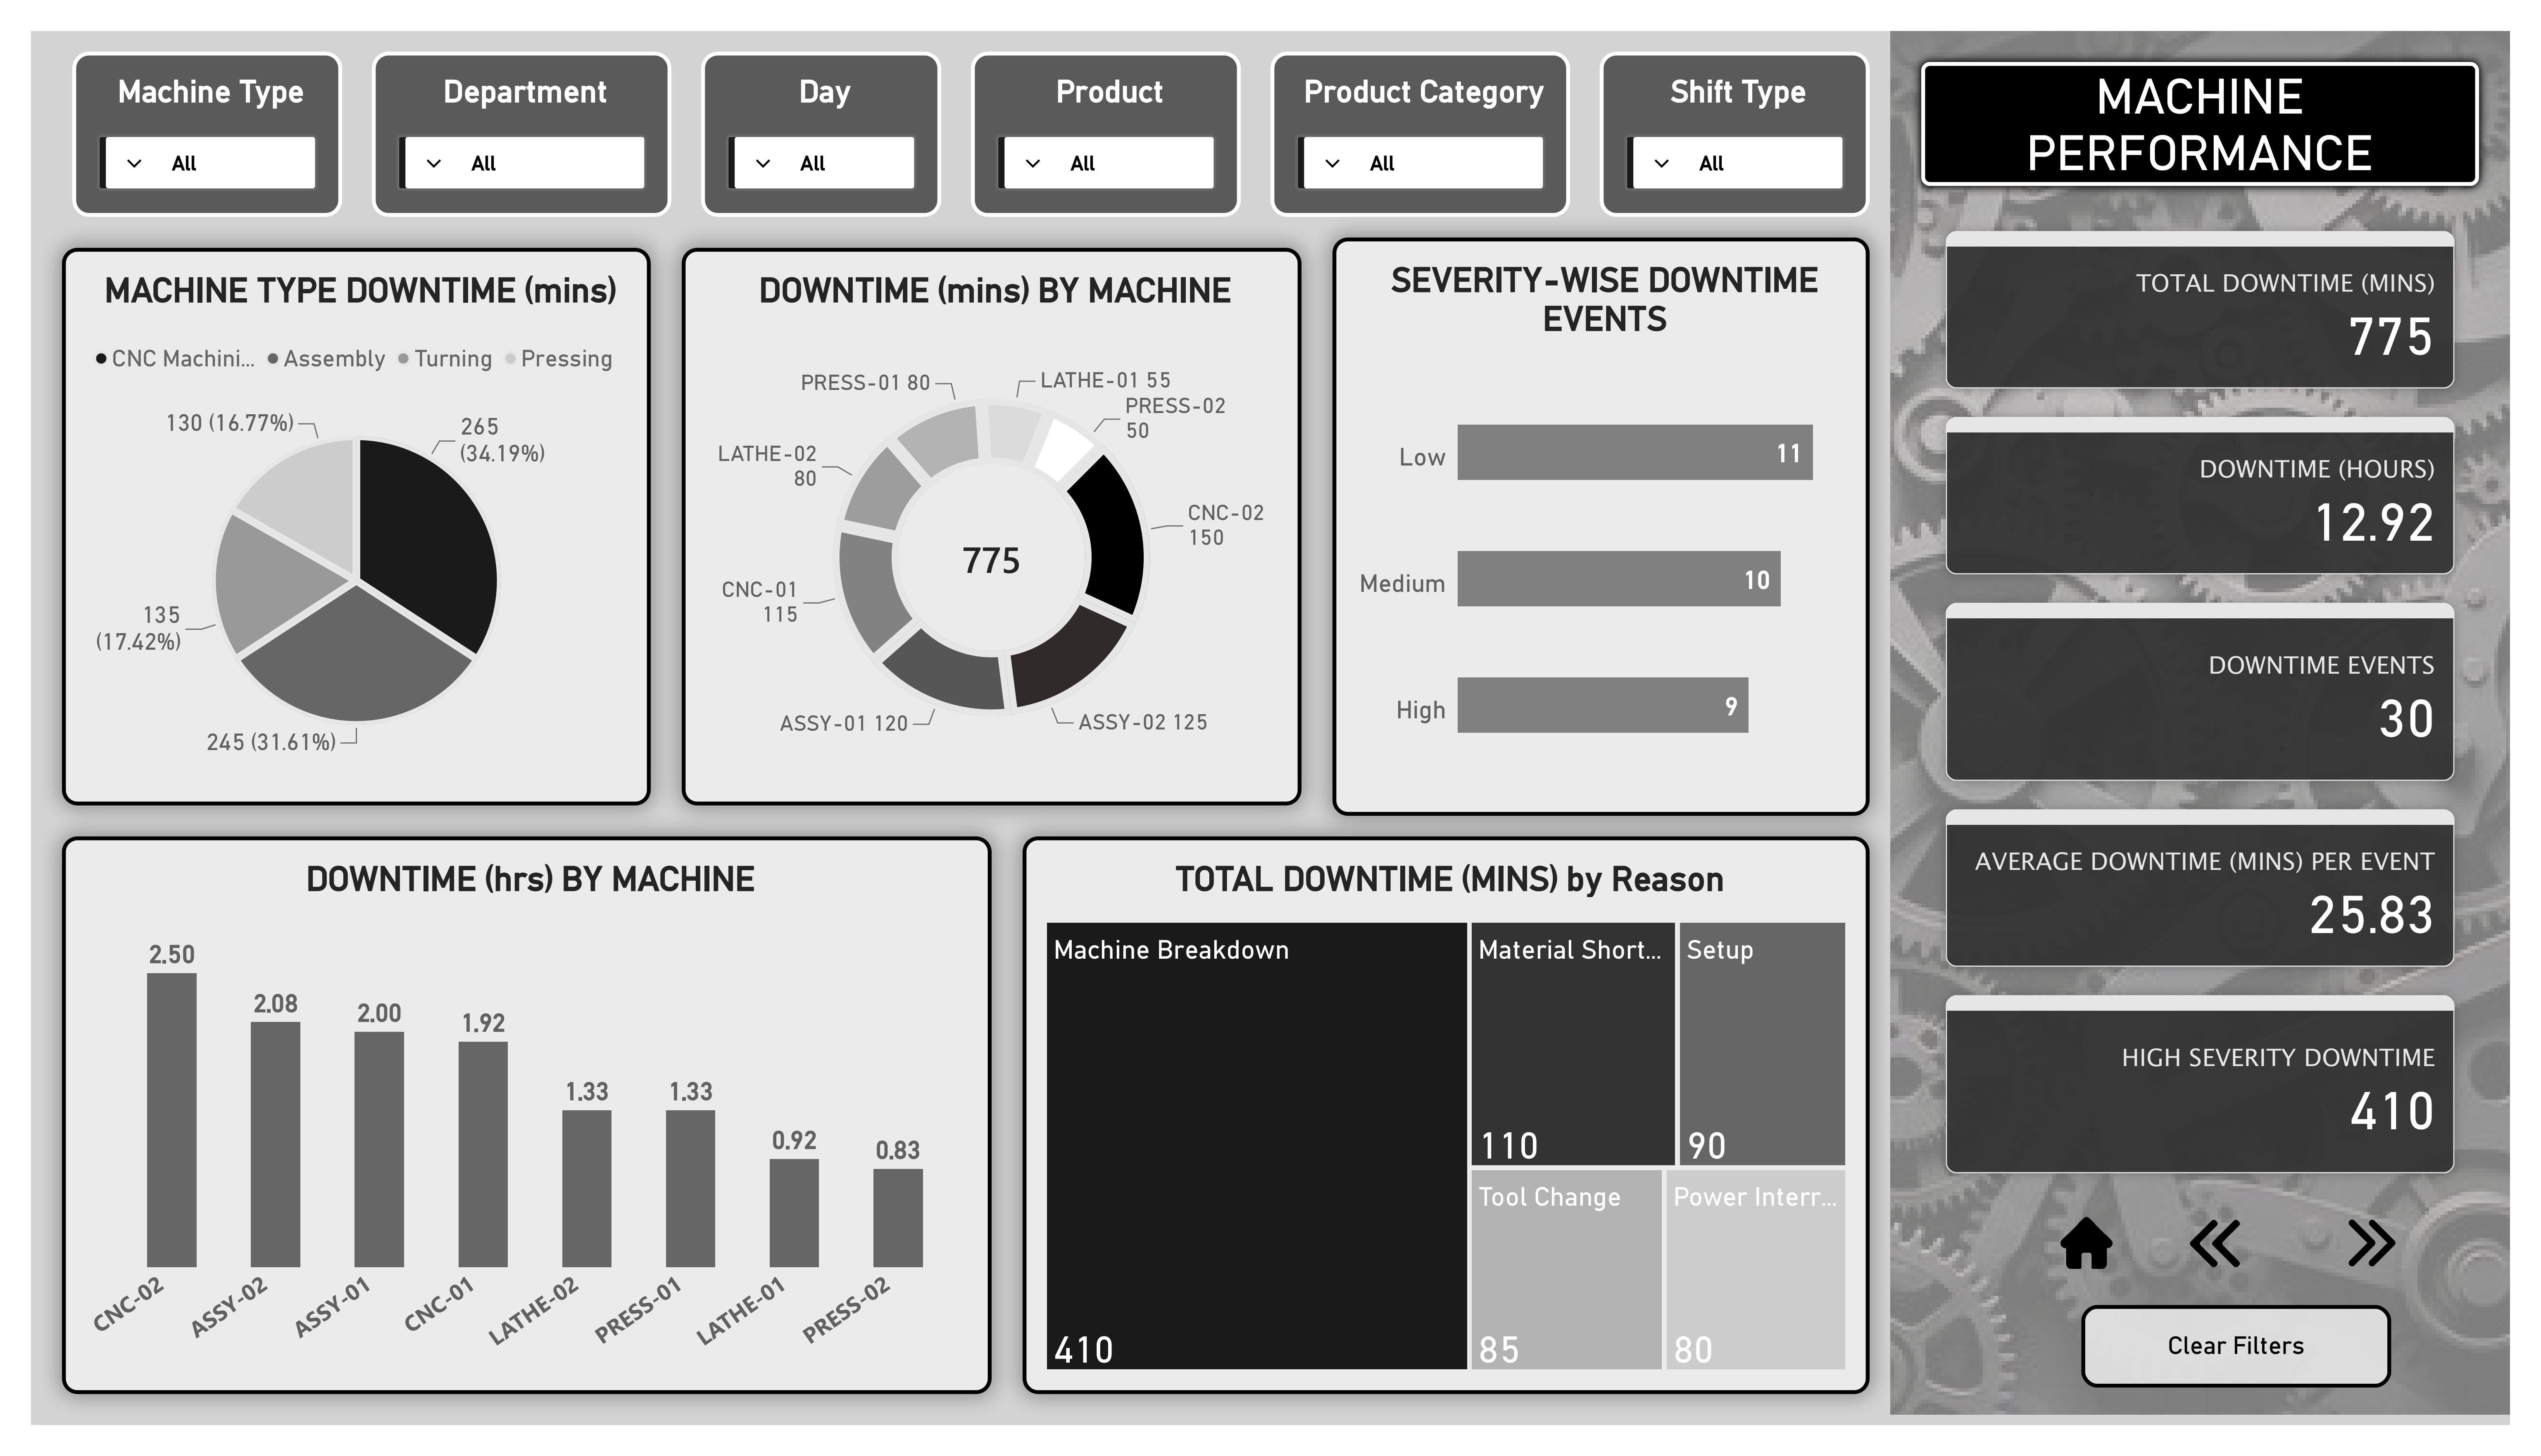

Layout of this report page (visuals, bound fields, positions):
{"tool":"powerbi","page":{"name":"Machine Performance","canvas":[1920,1080],"ordinal":4},"visuals":[{"type":"image","box":[1440,0,480,1072],"z":0},{"type":"pieChart","title":"MACHINE TYPE DOWNTIME (mins)","fields":{"Category":["DimMachine.MachineType"],"Y":["3 Machine Downtime.TOTAL DOWNTIME (MINS)"]},"box":[24,168,456,432],"z":1000},{"type":"image","box":[1571.5,907,40,64],"z":1000,"group":"g3"},{"type":"donutChart","title":"DOWNTIME (mins) BY MACHINE","fields":{"Category":["DimMachine.MachineName"],"Y":["3 Machine Downtime.TOTAL DOWNTIME (MINS)"]},"box":[504,168,480,432],"z":2000},{"type":"clusteredColumnChart","title":"DOWNTIME (hrs) BY MACHINE","fields":{"Category":["DimMachine.MachineName"],"Y":["3 Machine Downtime.DOWNTIME (HOURS)"]},"box":[24,624,720,432],"z":3000},{"type":"image","box":[1781.4,907,62.1,64],"z":3000,"group":"g4"},{"type":"clusteredBarChart","title":"SEVERITY-WISE DOWNTIME EVENTS","fields":{"Category":["FactDowntime.Severity"],"Y":["3 Machine Downtime.DOWNTIME EVENTS"]},"box":[1008,160,416,448],"z":4000},{"type":"image","box":[1667.5,915,46.6,48],"z":4000,"group":"g4"},{"type":"treemap","fields":{"Group":["FactDowntime.Reason"],"Values":["3 Machine Downtime.TOTAL DOWNTIME (MINS)"]},"box":[768,624,656,432],"z":5000},{"type":"group","id":"g1","title":"Group 2","box":[32,16,1392,128],"z":6000},{"type":"listSlicer","fields":{"Values":["DimDepartment.DepartmentName"]},"box":[264,16,232,128],"z":7000,"group":"g1"},{"type":"group","id":"g2","title":"Group 1","box":[1472,144,416,752],"z":7000},{"type":"group","id":"g3","title":"Group 2","box":[1571.5,907,272,48],"z":8000},{"type":"actionButton","box":[1587.5,987,240,64],"z":9000},{"type":"shape","box":[1456,16,448,112],"z":10000},{"type":"cardVisual","fields":{"Data":["Machine Downtime.TOTAL DOWNTIME (MINS)"]},"box":[1472,144,416,144],"z":11000,"group":"g2"},{"type":"cardVisual","fields":{"Data":["Machine Downtime.DOWNTIME (HOURS)"]},"box":[1472,288,416,144],"z":12000,"group":"g2"},{"type":"cardVisual","fields":{"Data":["Machine Downtime.HIGH SEVERITY DOWNTIME"]},"box":[1472,736,416,160],"z":13000,"group":"g2"},{"type":"cardVisual","fields":{"Data":["Machine Downtime.DOWNTIME EVENTS"]},"box":[1472,432,416,160],"z":14000,"group":"g2"},{"type":"cardVisual","fields":{"Data":["Machine Downtime.AVERAGE DOWNTIME (MINS) PER EVENT"]},"box":[1472,592,416,144],"z":15000,"group":"g2"},{"type":"listSlicer","fields":{"Values":["DimMachine.MachineName"]},"box":[32,16,208.8,128],"z":22000,"group":"g1"},{"type":"group","id":"g4","title":"Group 1","box":[1667.5,907,176,64],"z":23001,"group":"g3"},{"type":"listSlicer","fields":{"Values":["DimProduct.ProductCategory"]},"box":[960,16,232,128],"z":23500,"group":"g1"},{"type":"listSlicer","fields":{"Values":["DimDate.Date.Variation.Date Hierarchy.Day"]},"box":[519.2,16,185.6,128],"z":24000,"group":"g1"},{"type":"listSlicer","fields":{"Values":["DimShift.ShiftName"]},"box":[1215.2,16,208.8,128],"z":25000,"group":"g1"},{"type":"listSlicer","fields":{"Values":["DimProduct.ProductName"]},"box":[728,16,208.8,128],"z":25500,"group":"g1"}]}

Visuals, with their boxes on the page's 1920x1080 design canvas (x1, y1, x2, y2). These are canvas units, not pixel positions in the 2541x1456 screenshot, which may show the page scaled, cropped or inside an application window:
image: (1440, 0, 1920, 1072)
"MACHINE TYPE DOWNTIME (mins)" pieChart: (24, 168, 480, 600)
image: (1572, 907, 1612, 971)
"DOWNTIME (mins) BY MACHINE" donutChart: (504, 168, 984, 600)
"DOWNTIME (hrs) BY MACHINE" clusteredColumnChart: (24, 624, 744, 1056)
image: (1781, 907, 1844, 971)
"SEVERITY-WISE DOWNTIME EVENTS" clusteredBarChart: (1008, 160, 1424, 608)
image: (1668, 915, 1714, 963)
treemap - FactDowntime.Reason x 3 Machine Downtime.TOTAL DOWNTIME (MINS): (768, 624, 1424, 1056)
"Group 2" group: (32, 16, 1424, 144)
listSlicer - DimDepartment.DepartmentName: (264, 16, 496, 144)
"Group 1" group: (1472, 144, 1888, 896)
"Group 2" group: (1572, 907, 1844, 955)
actionButton: (1588, 987, 1828, 1051)
shape: (1456, 16, 1904, 128)
cardVisual - Machine Downtime.TOTAL DOWNTIME (MINS): (1472, 144, 1888, 288)
cardVisual - Machine Downtime.DOWNTIME (HOURS): (1472, 288, 1888, 432)
cardVisual - Machine Downtime.HIGH SEVERITY DOWNTIME: (1472, 736, 1888, 896)
cardVisual - Machine Downtime.DOWNTIME EVENTS: (1472, 432, 1888, 592)
cardVisual - Machine Downtime.AVERAGE DOWNTIME (MINS) PER EVENT: (1472, 592, 1888, 736)
listSlicer - DimMachine.MachineName: (32, 16, 241, 144)
"Group 1" group: (1668, 907, 1844, 971)
listSlicer - DimProduct.ProductCategory: (960, 16, 1192, 144)
listSlicer - DimDate.Date.Variation.Date Hierarchy.Day: (519, 16, 705, 144)
listSlicer - DimShift.ShiftName: (1215, 16, 1424, 144)
listSlicer - DimProduct.ProductName: (728, 16, 937, 144)
